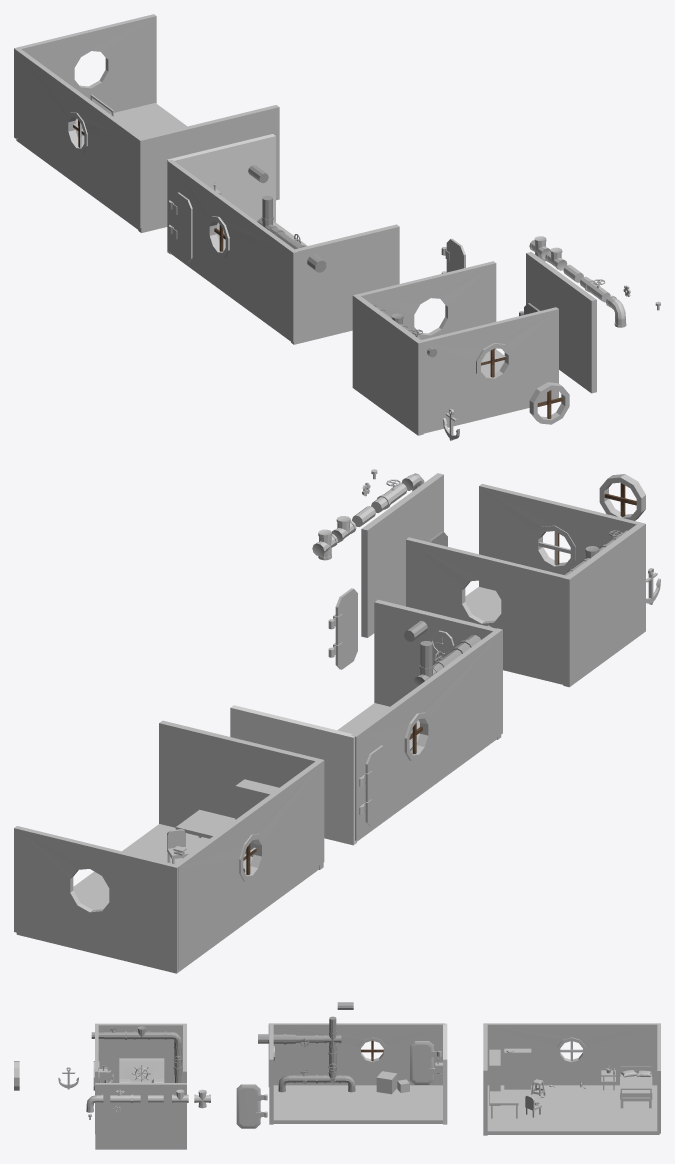
The model's file is 2026 ciga gamejam三个地图场景模型.fbx.
3 renders of one model, top to bottom at view 1: azimuth 30°, elevation 25°; view 2: azimuth 150°, elevation 25°; view 3: azimuth 270°, elevation 25°, orthographic. The views are drawn at different scales.
Parts seen in each view (by area): view 1: pCube1.005, pCube1.007, pCube1.002, 立方体.102, pCube1.003, 立方体.083, 立方体.213, pCube1.001, 立方体.090, 立方体.103, 立方体.211, door:pCube3.002 (+5 smaller); view 2: pCube1.003, pCube1.007, pCube1.002, pCube1.001, 立方体.213, 立方体.083, pCube1.005, 立方体.090, 立方体.103, 立方体.102, 立方体.211, door:pCube3.001 (+9 smaller); view 3: pCube1.007, pCube1.002, 立方体.211, 立方体.081, 立方体.090, 立方体.083, 立方体.199, door:pCube3.001, pCube3.001, door:pCube3.002, 立方体.095, 立方体.213 (+15 smaller).
Boxes of the visible parts, bbox=[...] form: pCube1.005: bbox=[417, 307, 558, 432]; pCube1.007: bbox=[14, 49, 144, 228]; pCube1.002: bbox=[167, 160, 297, 341]; 立方体.102: bbox=[291, 224, 399, 344]; pCube1.003: bbox=[14, 14, 156, 139]; 立方体.083: bbox=[352, 294, 423, 435]; 立方体.213: bbox=[138, 105, 279, 232]; pCube1.001: bbox=[354, 261, 496, 349]; 立方体.090: bbox=[526, 252, 596, 393]; 立方体.103: bbox=[167, 134, 275, 254]; 立方体.211: bbox=[16, 103, 187, 229]; door:pCube3.002: bbox=[169, 192, 192, 262]; pCube1.003: bbox=[14, 826, 179, 971]; pCube1.007: bbox=[173, 759, 324, 968]; pCube1.002: bbox=[351, 628, 502, 840]; pCube1.001: bbox=[406, 537, 571, 681]; 立方体.213: bbox=[159, 720, 323, 869]; 立方体.083: bbox=[563, 523, 645, 687]; pCube1.005: bbox=[479, 484, 644, 590]; 立方体.090: bbox=[361, 473, 443, 637]; 立方体.103: bbox=[230, 705, 356, 845]; 立方体.102: bbox=[374, 599, 501, 739]; 立方体.211: bbox=[16, 824, 319, 973]; door:pCube3.001: bbox=[328, 588, 357, 669]; pCube1.007: bbox=[483, 1023, 659, 1085]; pCube1.002: bbox=[268, 1023, 445, 1086]; 立方体.211: bbox=[487, 1085, 659, 1134]; 立方体.081: bbox=[273, 1085, 442, 1123]; 立方体.090: bbox=[95, 1083, 186, 1149]; 立方体.083: bbox=[98, 1023, 182, 1082]; 立方体.199: bbox=[504, 1048, 531, 1089]; door:pCube3.001: bbox=[236, 1084, 267, 1128]; pCube3.001: bbox=[119, 1058, 164, 1082]; door:pCube3.002: bbox=[410, 1041, 441, 1084]; 立方体.095: bbox=[620, 1076, 652, 1099]; 立方体.213: bbox=[483, 1024, 487, 1135].
Bounding box in the file's own units: 162 × 83.67 × 534.
